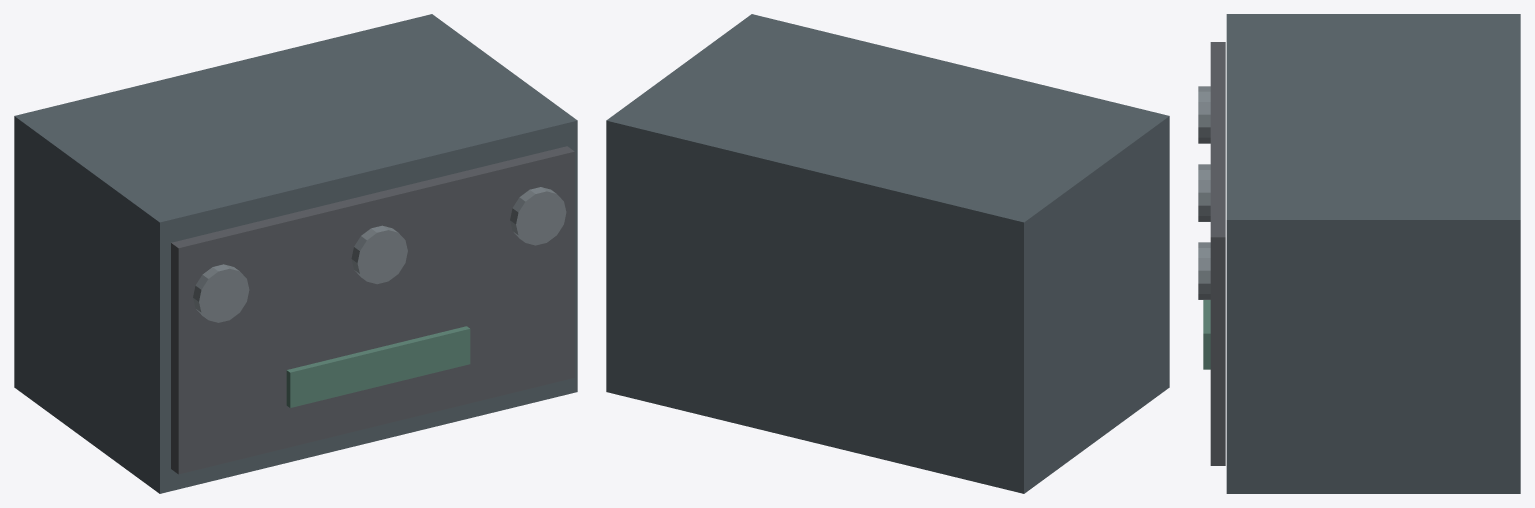
File: BRO-002.glb
3 views of the same model, side by side, from view 1: azimuth 30°, elevation 25°; view 2: azimuth 150°, elevation 25°; view 3: azimuth 270°, elevation 25° (orthographic).
Parts seen in each view (by area): view 1: 000_Audio_amp, 001_Front_rack, 005_Meter, 003_Volume_knob, 004_Volume_knob, 002_Volume_knob; view 2: 000_Audio_amp; view 3: 000_Audio_amp, 001_Front_rack, 002_Volume_knob, 003_Volume_knob, 004_Volume_knob, 005_Meter.
Boxes of the visible parts, box(x1,y1,x2,y2) form: 000_Audio_amp: box(14, 14, 577, 493); 001_Front_rack: box(171, 146, 574, 474); 005_Meter: box(286, 326, 470, 407); 003_Volume_knob: box(351, 225, 407, 284); 004_Volume_knob: box(510, 187, 566, 245); 002_Volume_knob: box(193, 264, 249, 322); 000_Audio_amp: box(606, 14, 1169, 493); 000_Audio_amp: box(1226, 14, 1520, 493); 001_Front_rack: box(1210, 42, 1225, 465); 002_Volume_knob: box(1198, 86, 1210, 143); 003_Volume_knob: box(1198, 164, 1210, 221); 004_Volume_knob: box(1198, 242, 1210, 299); 005_Meter: box(1203, 300, 1210, 369).
Bounding box in the file's own units: 0.58 × 0.36 × 0.3835.
